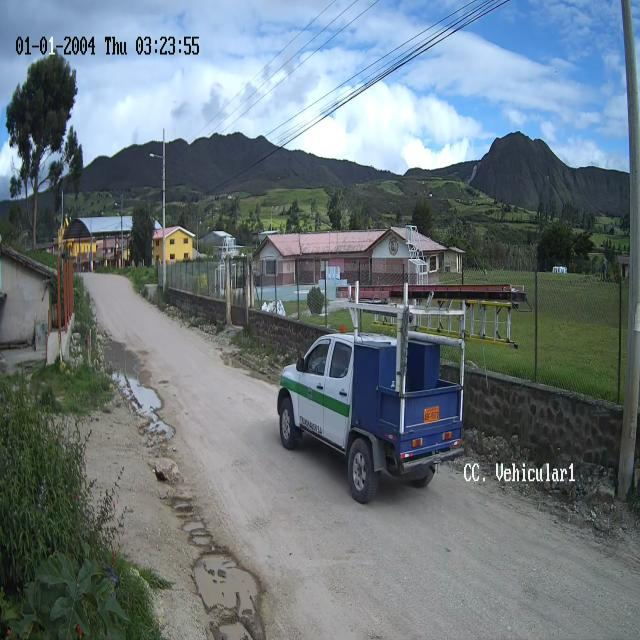CMT: (277, 332, 464, 503)
